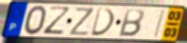B: (117, 8, 145, 38)
D: (89, 7, 116, 37)
I: (153, 9, 168, 39)
O: (23, 5, 49, 37)
Z: (42, 6, 73, 37), (68, 7, 95, 37)
